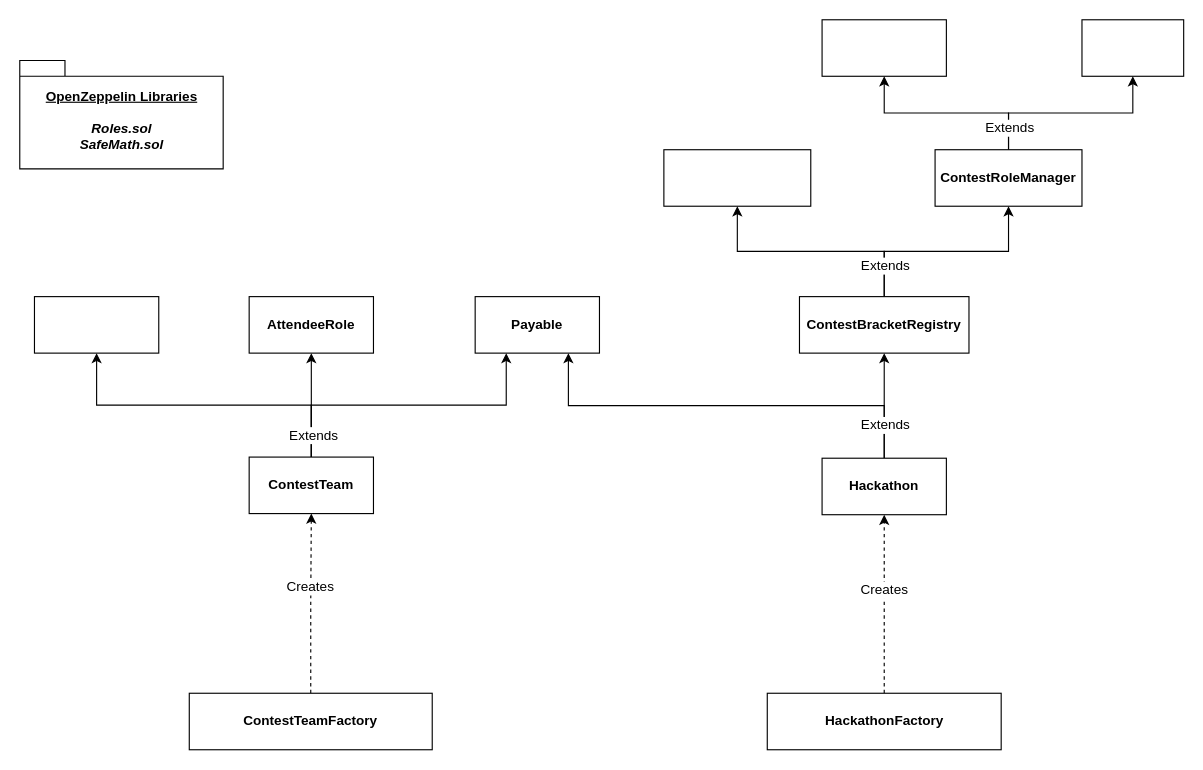
This 1203x770 diagram has some shape labels left out. Here are the shapes that lost their labels. From the top down, the centre of each, then its label:
At (883,47): "Organizer Role".
At (1132,47): "JudgeRole".
At (737,177): "ContestTeamRegistry".
At (96,324): "Pausable".
